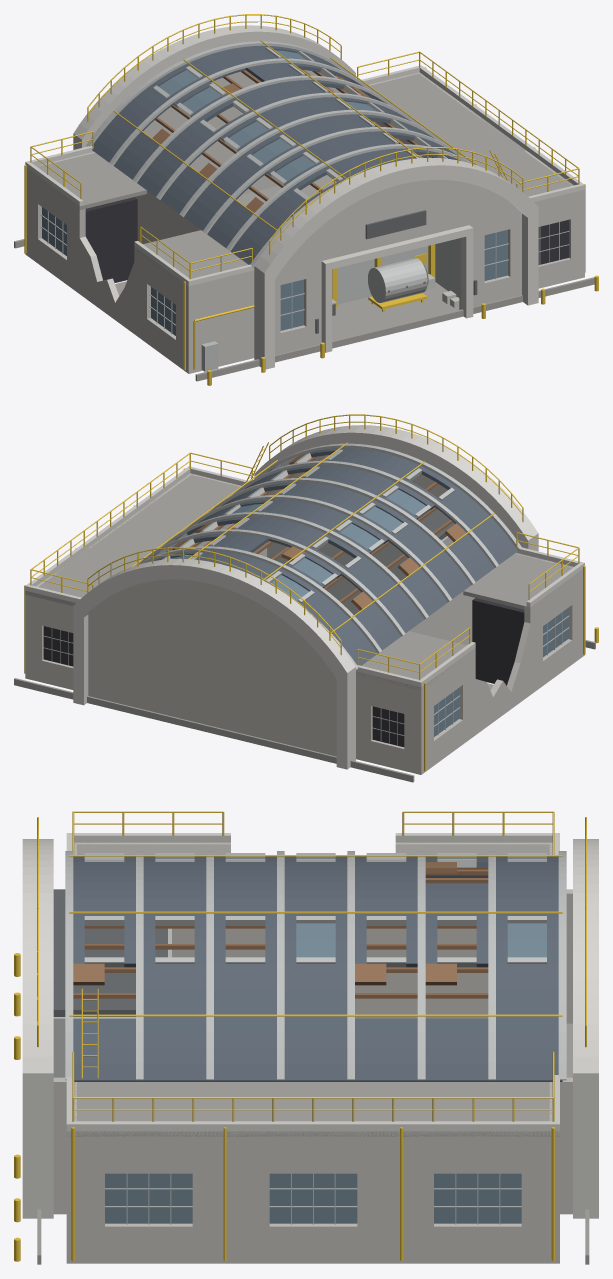
The model's file is a_hangar_ruin.glb.
The picture shows the model from 3 angles, top to bottom: view 1: azimuth 30°, elevation 25°; view 2: azimuth 150°, elevation 25°; view 3: azimuth 270°, elevation 25°; orthographic projection. The views are drawn at different scales.
Parts seen in each view (by area): view 1: a_hangar_m_concrete, a_hangar_m_corrugated, a_hangar_m_concrete_trim, a_hangar_m_metal_paint, a_hangar_m_concrete_dark, a_hangar_m_yellow_paint, a_hangar_m_glass, a_hangar_m_interior_dark, a_hangar_m_concrete_ruin, a_hangar_m_metal_rust, a_hangar_m_yellow_paint_ruin, a_hangar_m_metal_dark (+2 smaller); view 2: a_hangar_m_concrete, a_hangar_m_corrugated, a_hangar_m_concrete_trim, a_hangar_m_concrete_dark, a_hangar_m_metal_paint, a_hangar_m_yellow_paint, a_hangar_m_interior_dark, a_hangar_m_glass, a_hangar_m_concrete_ruin, a_hangar_m_metal_rust, a_hangar_m_yellow_paint_ruin, a_hangar_m_metal_rust_ruin (+1 smaller); view 3: a_hangar_m_corrugated, a_hangar_m_concrete, a_hangar_m_concrete_trim, a_hangar_m_metal_paint, a_hangar_m_concrete_dark, a_hangar_m_glass, a_hangar_m_yellow_paint, a_hangar_m_metal_dark, a_hangar_m_metal_rust, a_hangar_m_concrete_trim_ruin, a_hangar_m_metal_rust_ruin, a_hangar_m_yellow_paint_ruin.
Boxes of the visible parts, x1,y1,x2,y2 form: a_hangar_m_concrete: [25, 70, 584, 373]; a_hangar_m_corrugated: [92, 45, 460, 264]; a_hangar_m_concrete_trim: [25, 25, 584, 369]; a_hangar_m_metal_paint: [40, 41, 569, 371]; a_hangar_m_concrete_dark: [14, 72, 594, 381]; a_hangar_m_yellow_paint: [24, 14, 598, 385]; a_hangar_m_glass: [42, 50, 507, 335]; a_hangar_m_interior_dark: [85, 197, 569, 282]; a_hangar_m_concrete_ruin: [79, 236, 134, 333]; a_hangar_m_metal_rust: [155, 70, 434, 292]; a_hangar_m_yellow_paint_ruin: [30, 131, 252, 279]; a_hangar_m_metal_dark: [332, 210, 428, 315]; a_hangar_m_concrete: [25, 455, 584, 774]; a_hangar_m_corrugated: [151, 448, 517, 665]; a_hangar_m_concrete_trim: [25, 425, 584, 769]; a_hangar_m_concrete_dark: [14, 474, 595, 782]; a_hangar_m_metal_paint: [43, 443, 569, 745]; a_hangar_m_yellow_paint: [24, 414, 598, 771]; a_hangar_m_interior_dark: [43, 598, 524, 747]; a_hangar_m_glass: [170, 489, 568, 736]; a_hangar_m_concrete_ruin: [475, 622, 530, 734]; a_hangar_m_metal_rust: [168, 455, 452, 603]; a_hangar_m_yellow_paint_ruin: [357, 532, 579, 680]; a_hangar_m_metal_rust_ruin: [172, 452, 465, 610]; a_hangar_m_corrugated: [73, 856, 562, 1081]; a_hangar_m_concrete: [53, 842, 572, 1263]; a_hangar_m_concrete_trim: [22, 833, 598, 1218]; a_hangar_m_metal_paint: [53, 851, 566, 1224]; a_hangar_m_concrete_dark: [37, 842, 589, 1264]; a_hangar_m_glass: [105, 857, 546, 1223]; a_hangar_m_yellow_paint: [14, 817, 586, 1261]; a_hangar_m_metal_dark: [53, 889, 167, 1016]; a_hangar_m_metal_rust: [73, 867, 488, 998]; a_hangar_m_concrete_trim_ruin: [67, 833, 559, 842]; a_hangar_m_metal_rust_ruin: [73, 862, 456, 985]; a_hangar_m_yellow_paint_ruin: [72, 811, 554, 854].
Bounding box in the file's own units: 26.93 × 11.58 × 22.53.
